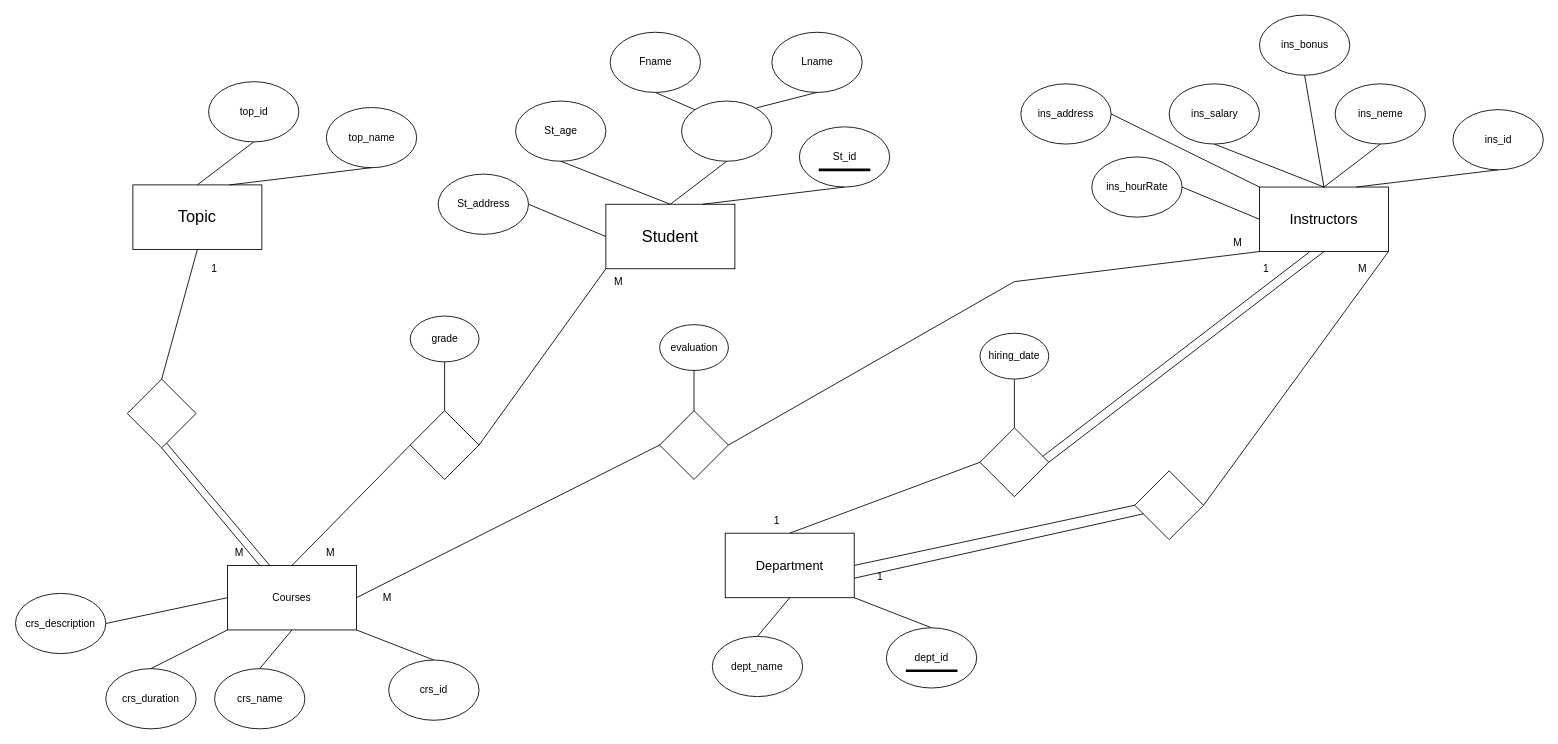
This 1558x744 diagram has some shape labels left out. Here are the shapes that lost their labels. From the top down, the centre of each, then its label:
At [726,130]: "Student_name".
At [161,413]: "classify".
At [444,444]: "take".
At [693,444]: "teach".
At [1014,462]: "manage".
At [1169,505]: "have".
